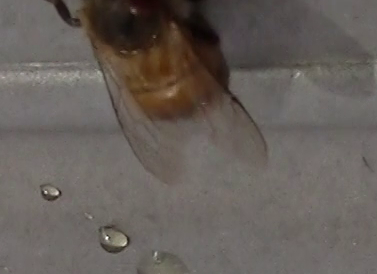Varroa destructor: (125, 0, 157, 13)
